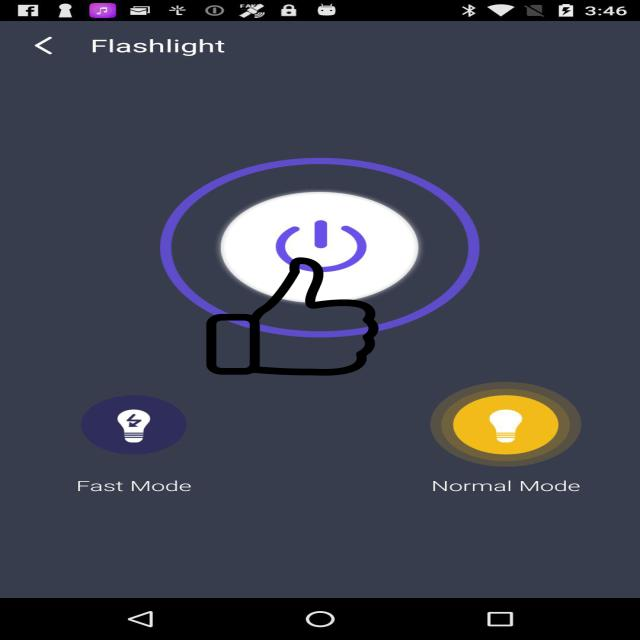privacy zuckering: (204, 257, 381, 376)
